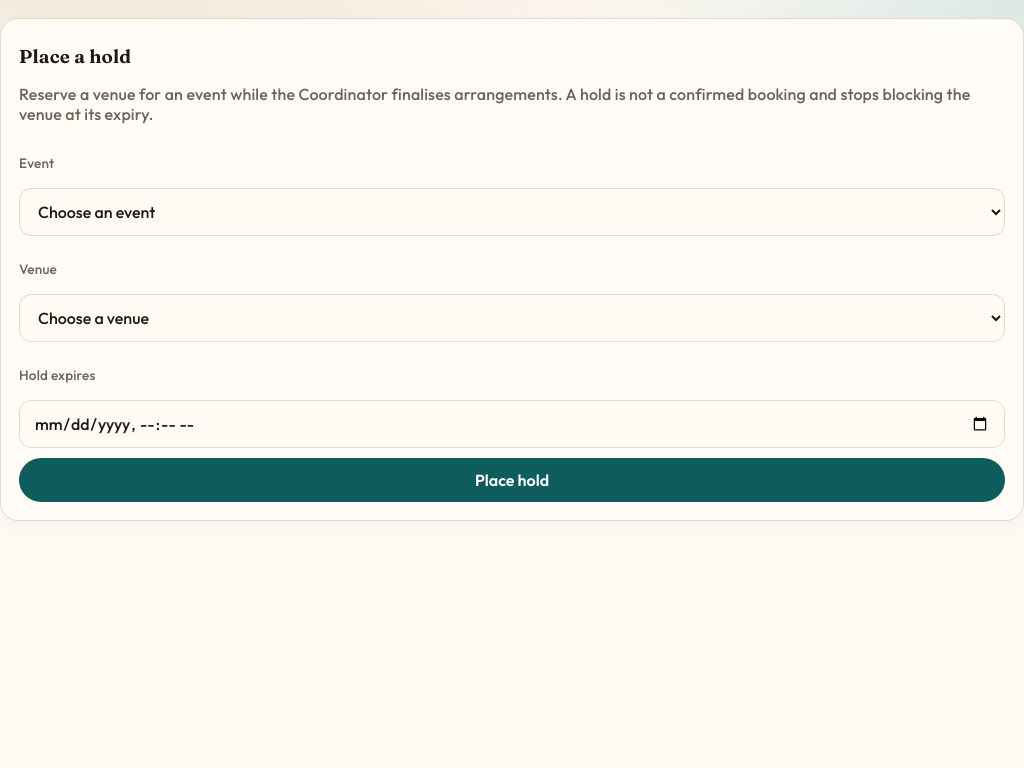
it: SCRUM-75 PlaceHoldCard › US75-F13: with nothing picked, sends no ids and no expiry (the API rejects it)
Click the button "Place hold" at (512, 480), box [19,458,1005,502]
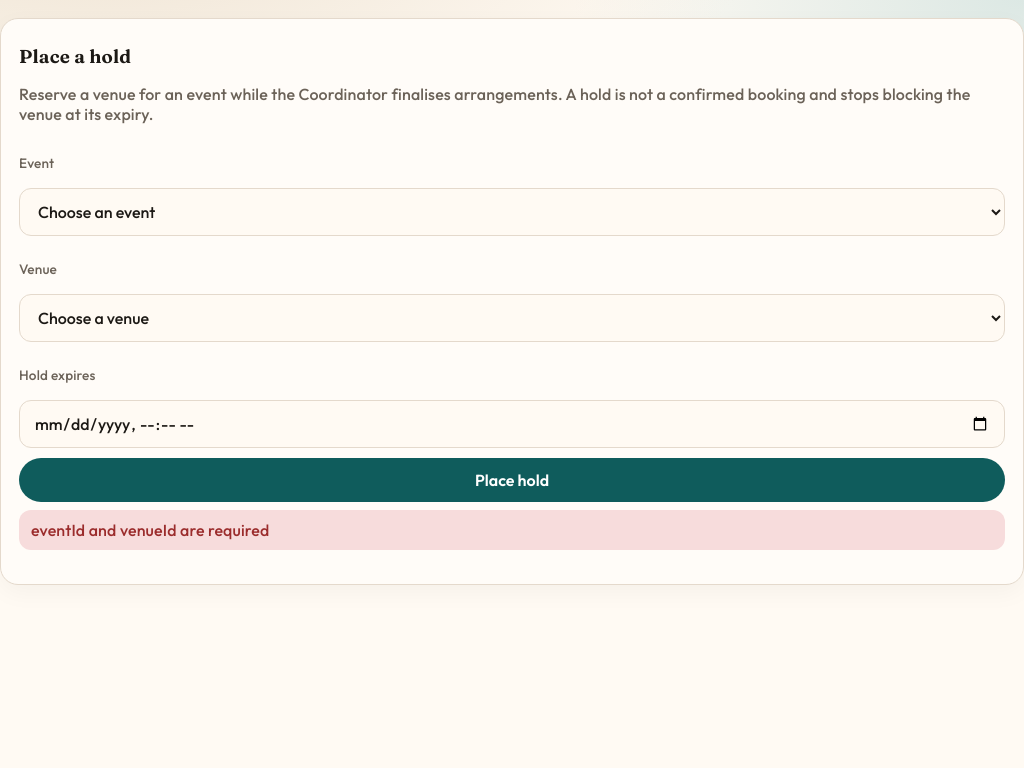
Expected: the text "eventId and venueId are required" is shown, [19,510,1005,550]
